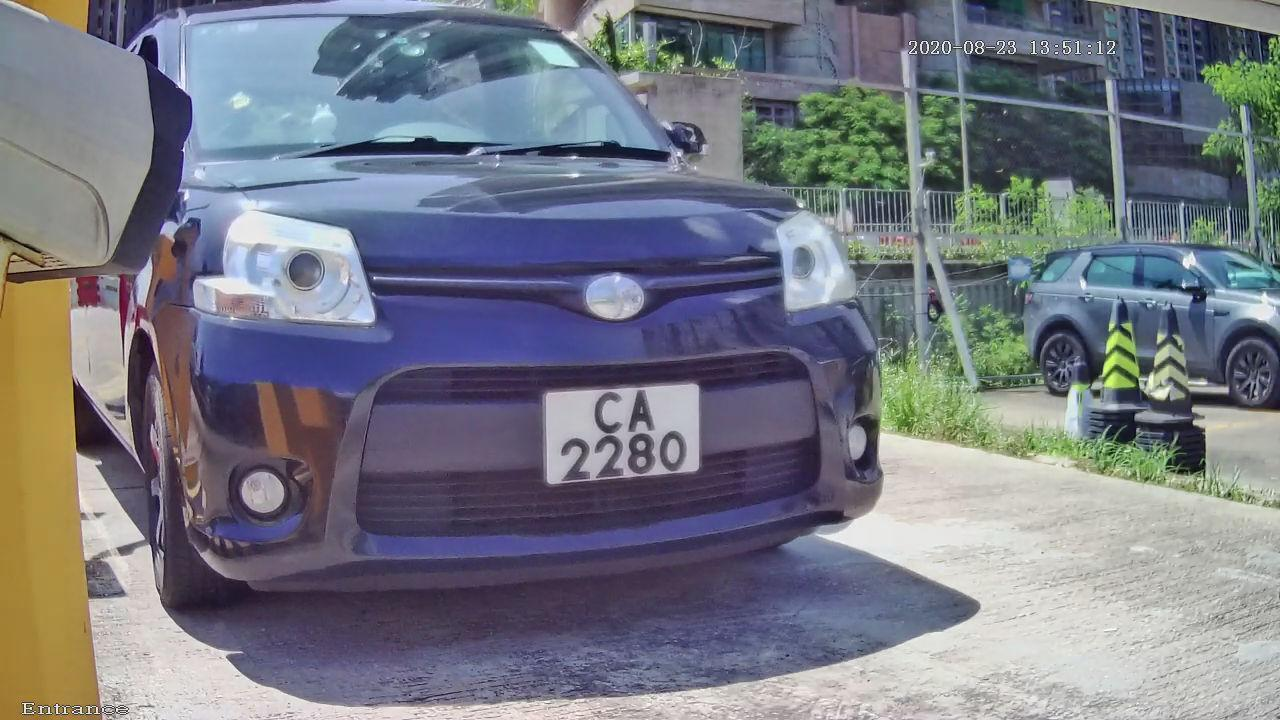Car: (23, 1, 921, 672)
License Plate: (526, 370, 715, 502)
